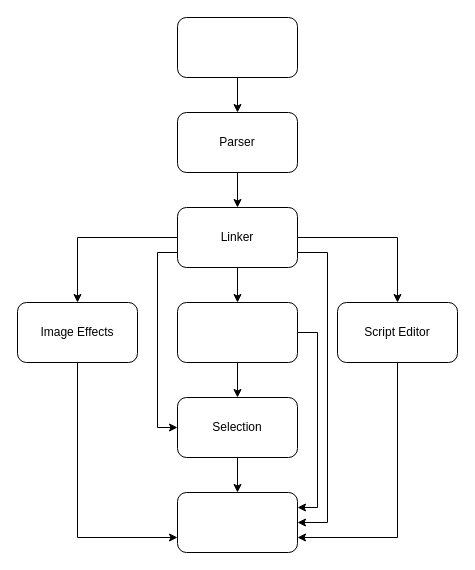
Some shapes in this 475 by 570 pixel diagram are drawn without their labels. The box of each missing label's shape, as (x1, y1, x2, y2) in pixels:
Main: (176, 16, 298, 78)
Selection Effects: (176, 302, 298, 362)
Windows & Images: (176, 492, 298, 552)
